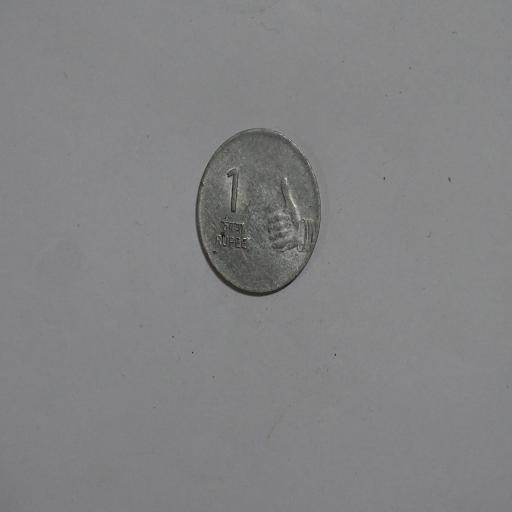rupee1: (195, 127, 323, 295)
